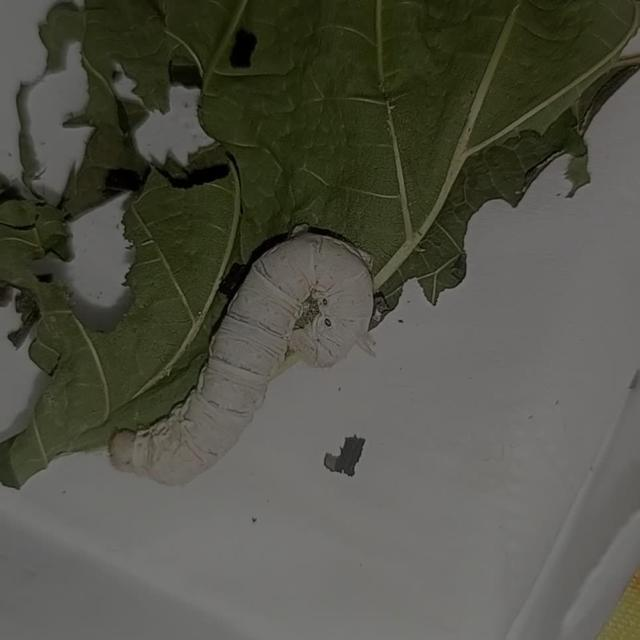Healthy: (100, 226, 383, 491)
